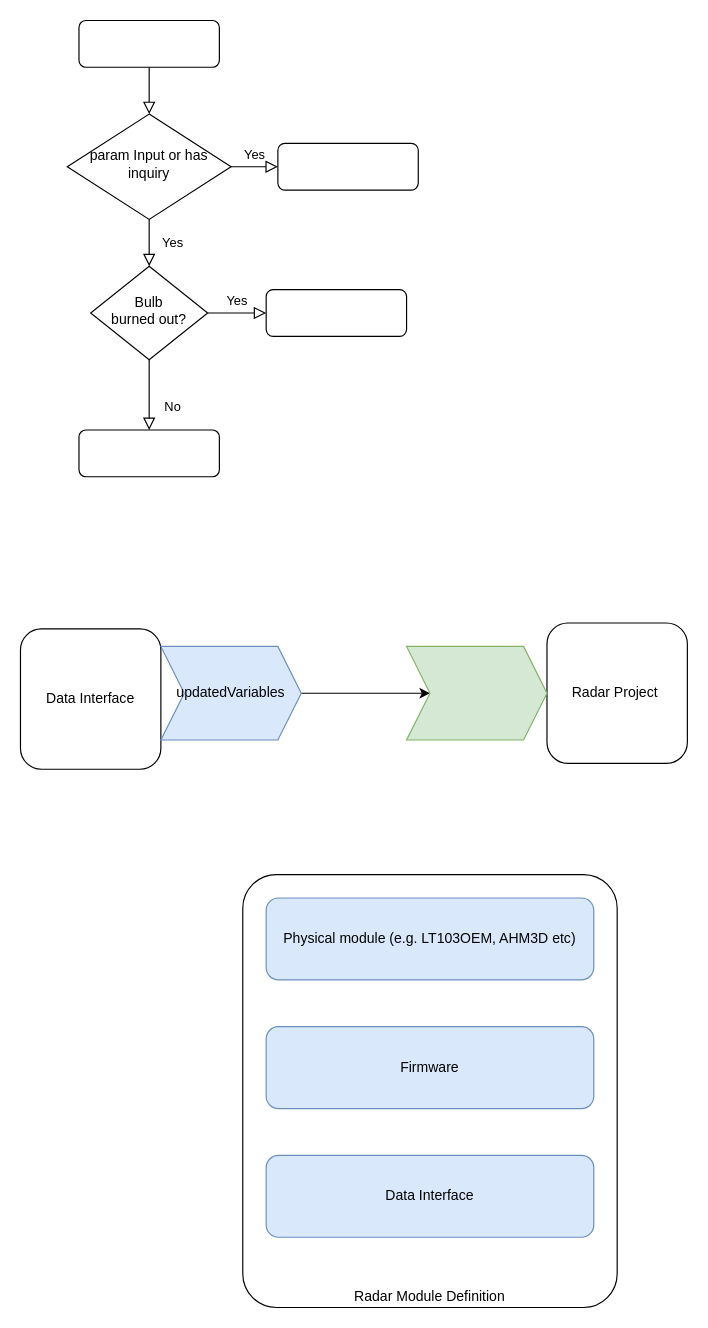
Some shapes in this 708 by 1328 pixel diagram are drawn without their labels. The shapes that lost their labels are listed below. From the top down, each one's box as (x1, y1, x2, y2) in pixels, then its label:
(78, 19, 219, 67): Param list
(277, 142, 418, 190): Add to inquiry list
(265, 288, 407, 336): Replace Bulb
(78, 429, 219, 477): Repair Lamp
(405, 645, 547, 740): variables_updated
